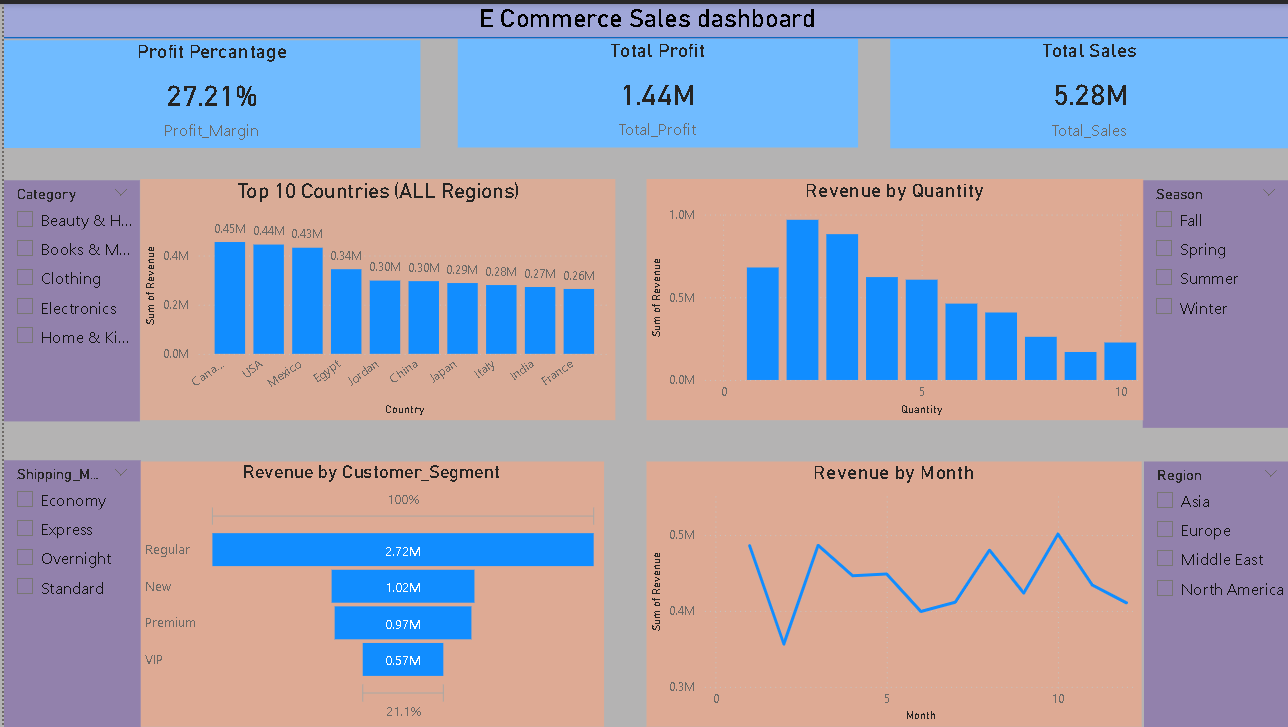

The dashboard page shown, as its layout file describes it:
{"tool":"powerbi","page":{"name":"Sales Dashboard","canvas":[1280,720],"ordinal":0},"visuals":[{"type":"card","title":"Profit Percantage","fields":{"Values":["E_Commerce_Data.Profit_Margin"]},"box":[0,35.7,414.3,107.1],"z":0},{"type":"card","title":"Total Profit","fields":{"Values":["E_Commerce_Data.Total_Profit"]},"box":[451.7,35,398.3,108.3],"z":1000},{"type":"card","title":"Total Sales","fields":{"Values":["E_Commerce_Data.Total_Sales"]},"box":[881.4,34.3,397.1,108.6],"z":2000},{"type":"shape","title":"E Commerce Sales dashboard","box":[0,0,1280,34.4],"z":3000},{"type":"lineChart","title":"Revenue by Month","fields":{"Category":["E_Commerce_Data.Month"],"Y":["Sum(E_Commerce_Data.Revenue)"]},"box":[640,455.7,492.9,264.3],"z":4000},{"type":"slicer","fields":{"Values":["E_Commerce_Data.Region"]},"box":[1135,455,145,265],"z":5000},{"type":"slicer","fields":{"Values":["E_Commerce_Data.Season"]},"box":[1133.3,175,145,246.7],"z":6000},{"type":"funnel","title":" Revenue by Customer_Segment","fields":{"Category":["E_Commerce_Data.Customer_Segment"],"Y":["Sum(E_Commerce_Data.Revenue)"]},"box":[135.7,455.7,461.4,264.3],"z":7000},{"type":"slicer","fields":{"Values":["E_Commerce_Data.Category"]},"box":[0,175,135,240],"z":8000},{"type":"clusteredColumnChart","fields":{"Category":["E_Commerce_Data.Country"],"Y":["Sum(E_Commerce_Data.Revenue)"]},"box":[135.7,174.3,472.9,240],"z":9000},{"type":"clusteredColumnChart","title":" Revenue by Quantity","fields":{"Category":["E_Commerce_Data.Quantity"],"Y":["Sum(E_Commerce_Data.Revenue)"]},"box":[640,174.3,494.3,240],"z":10000},{"type":"slicer","fields":{"Values":["E_Commerce_Data.Shipping_Method"]},"box":[0,454.3,135.7,265.7],"z":11000}]}

Visuals, with their boxes in screenshot pixels (x1, y1, x2, y2), scaled from the page's 1280x720 canvas onto the 1288x727 screenshot:
"Profit Percantage" card: 0, 36, 417, 144
"Total Profit" card: 455, 35, 855, 145
"Total Sales" card: 887, 35, 1286, 144
"E Commerce Sales dashboard" shape: 0, 0, 1287, 35
"Revenue by Month" lineChart: 644, 460, 1140, 726
slicer - E_Commerce_Data.Region: 1142, 459, 1287, 726
slicer - E_Commerce_Data.Season: 1140, 177, 1286, 426
" Revenue by Customer_Segment" funnel: 137, 460, 601, 726
slicer - E_Commerce_Data.Category: 0, 177, 136, 419
clusteredColumnChart - E_Commerce_Data.Country x Sum(E_Commerce_Data.Revenue): 137, 176, 612, 418
" Revenue by Quantity" clusteredColumnChart: 644, 176, 1141, 418
slicer - E_Commerce_Data.Shipping_Method: 0, 459, 137, 726
